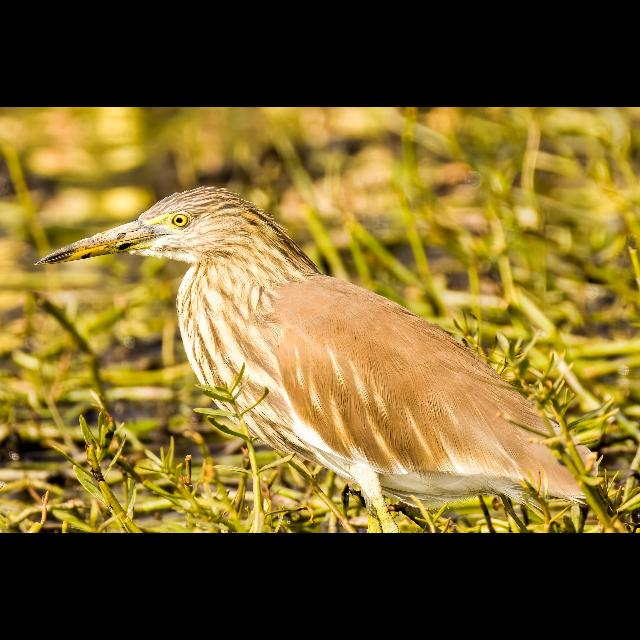heron: (33, 188, 597, 514)
